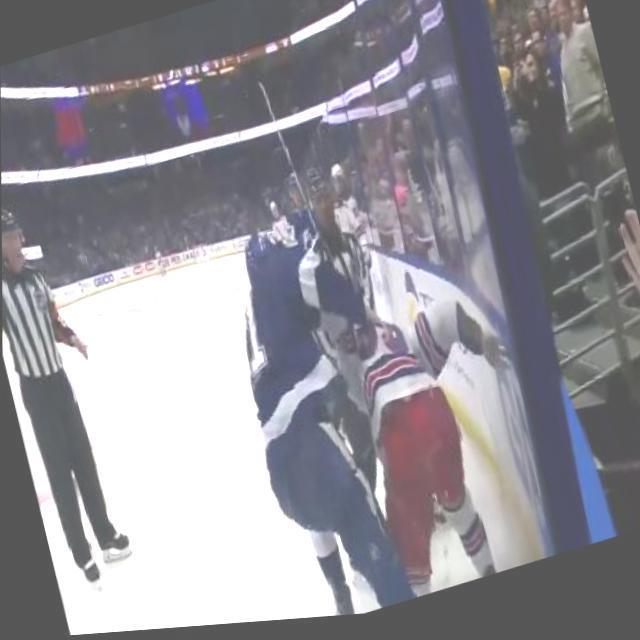fight: (198, 172, 538, 628)
